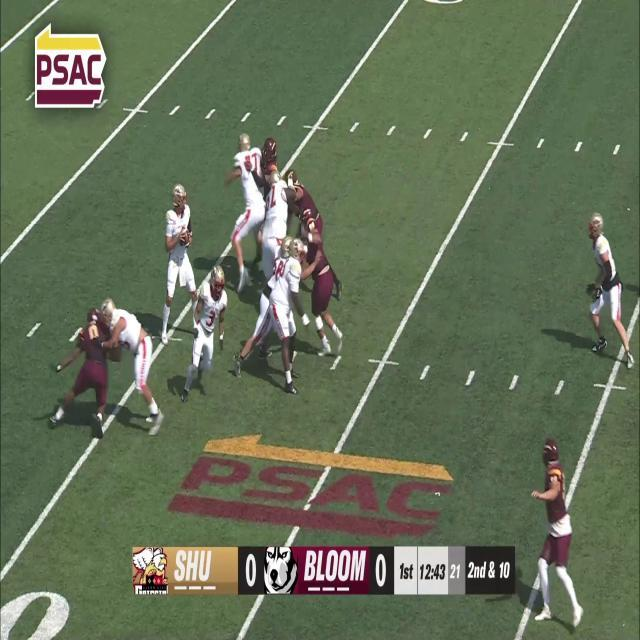football: (180, 227, 190, 248)
